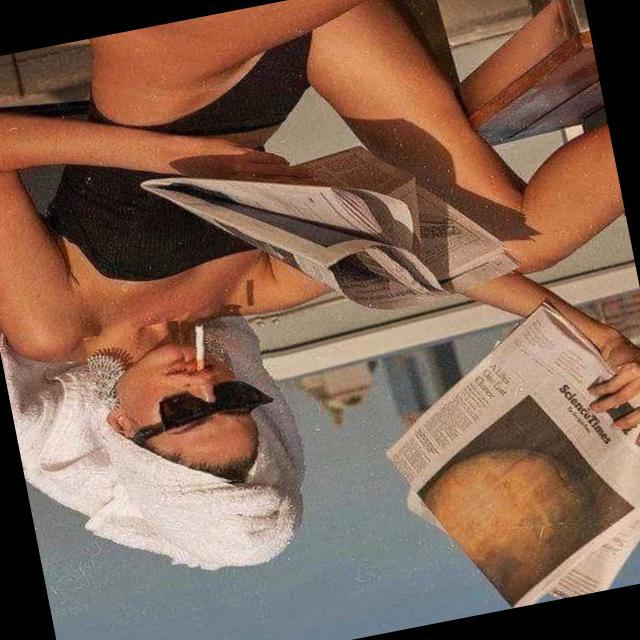cigarette: (177, 305, 236, 388)
